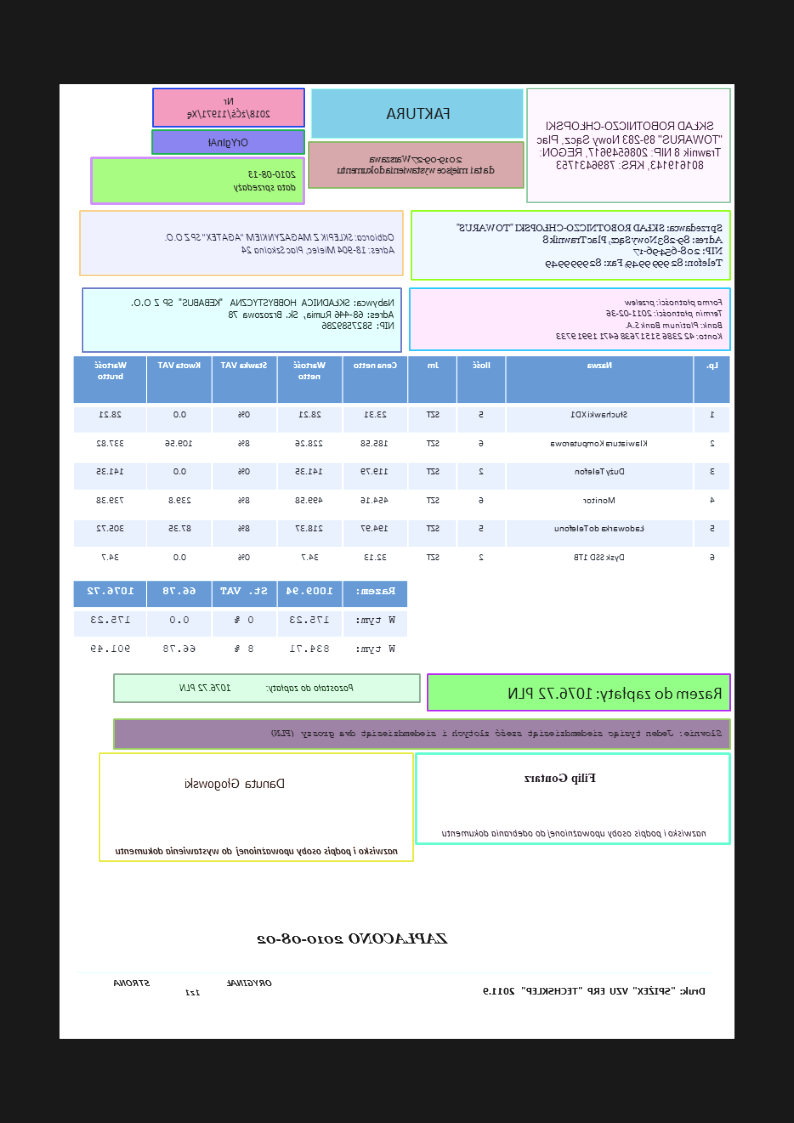Table: (74, 355, 732, 577), (71, 580, 409, 666)
TextBox: (455, 220, 726, 270), (535, 119, 725, 172), (128, 296, 397, 332), (554, 296, 725, 343), (162, 231, 397, 257), (270, 727, 724, 740), (507, 683, 723, 703), (114, 843, 400, 857), (333, 153, 497, 177), (254, 930, 452, 948), (440, 827, 709, 840), (111, 978, 274, 998), (480, 984, 707, 998), (177, 681, 355, 695), (184, 96, 273, 122), (231, 168, 298, 194), (184, 776, 286, 793), (385, 105, 453, 123), (523, 770, 598, 785), (207, 134, 251, 150)
